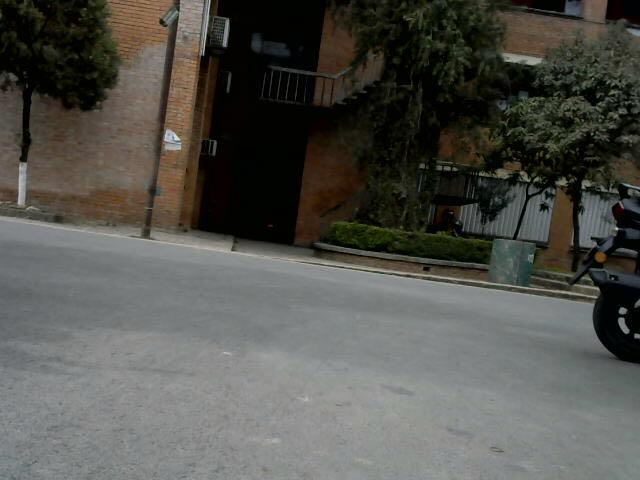Building: (220, 0, 349, 223)
Dustbin: (481, 231, 539, 289)
Electrical Pole: (138, 0, 183, 266)
Road: (1, 220, 639, 480)
Tree: (367, 0, 480, 266), (2, 2, 109, 211), (516, 19, 639, 186), (575, 169, 640, 363)
